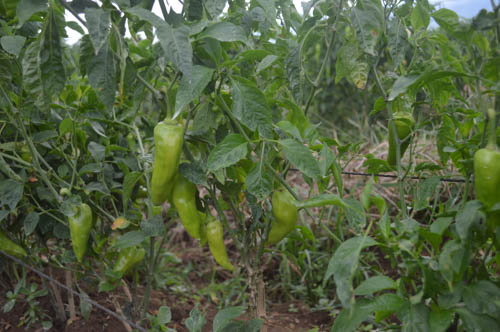ChiliPepper: (144, 125, 186, 212), (464, 146, 497, 211), (385, 113, 417, 170), (60, 207, 91, 265), (265, 197, 297, 250), (172, 175, 198, 239), (201, 222, 232, 272), (106, 250, 142, 276)
